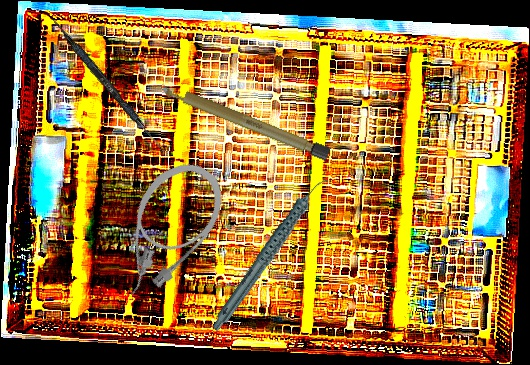Cannula: (92, 149, 238, 310)
Handpiece: (185, 174, 356, 333)
Scalpel Handle: (158, 79, 332, 162)
Spatula Surgical: (46, 15, 169, 155)
